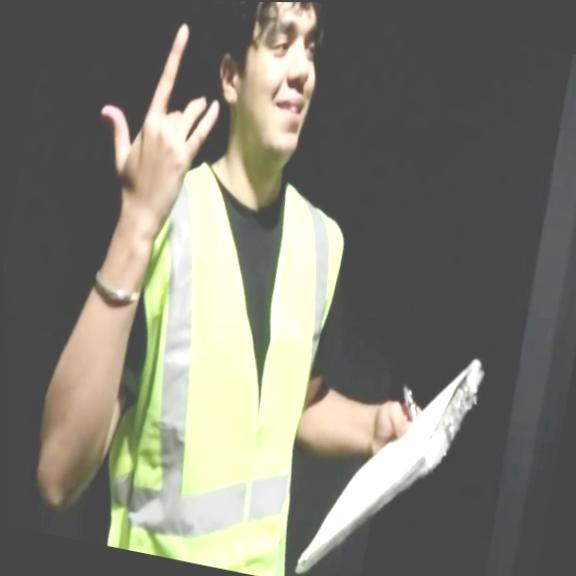safety_vest: (84, 146, 365, 576)
